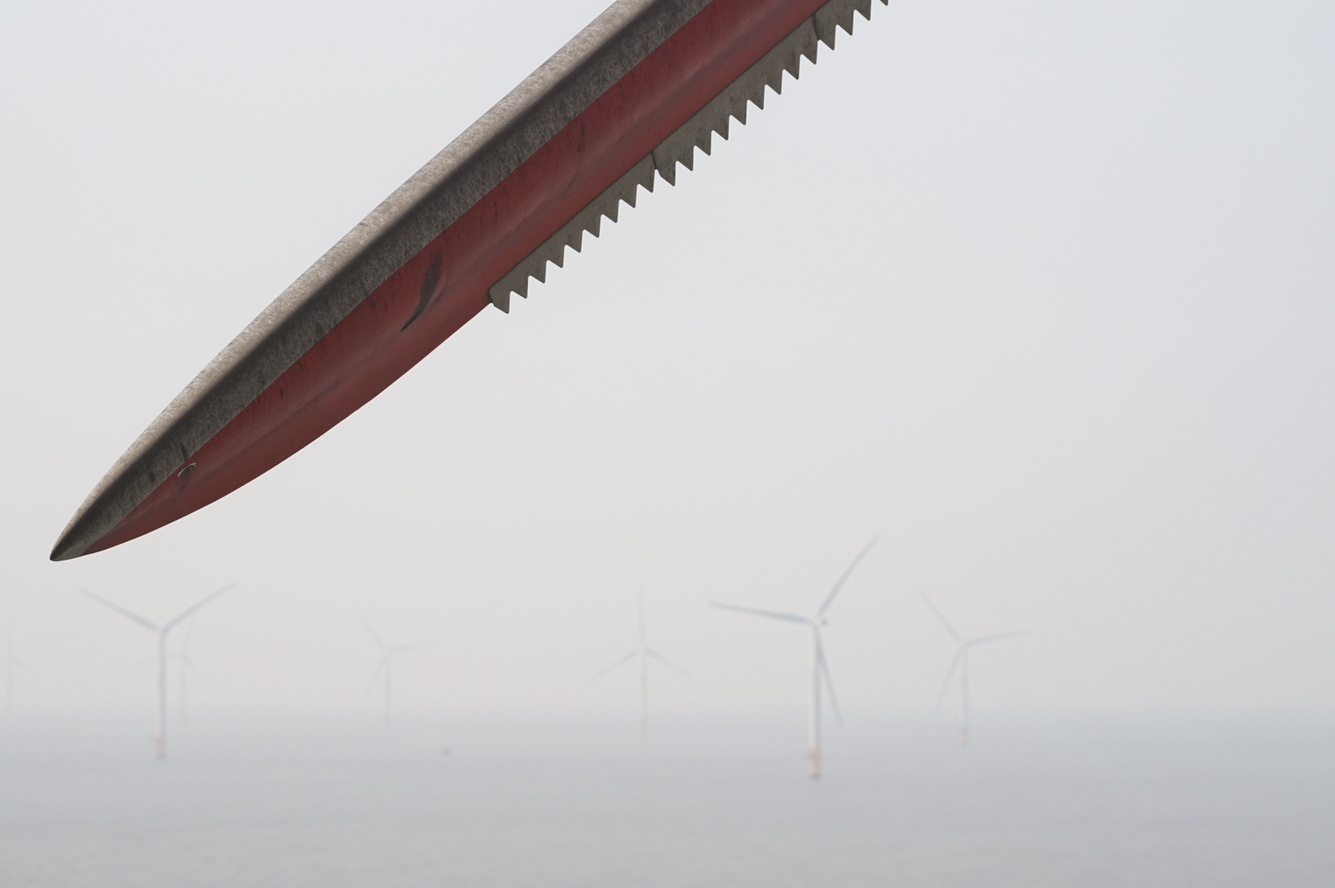Dirt: (401, 249, 444, 334)
